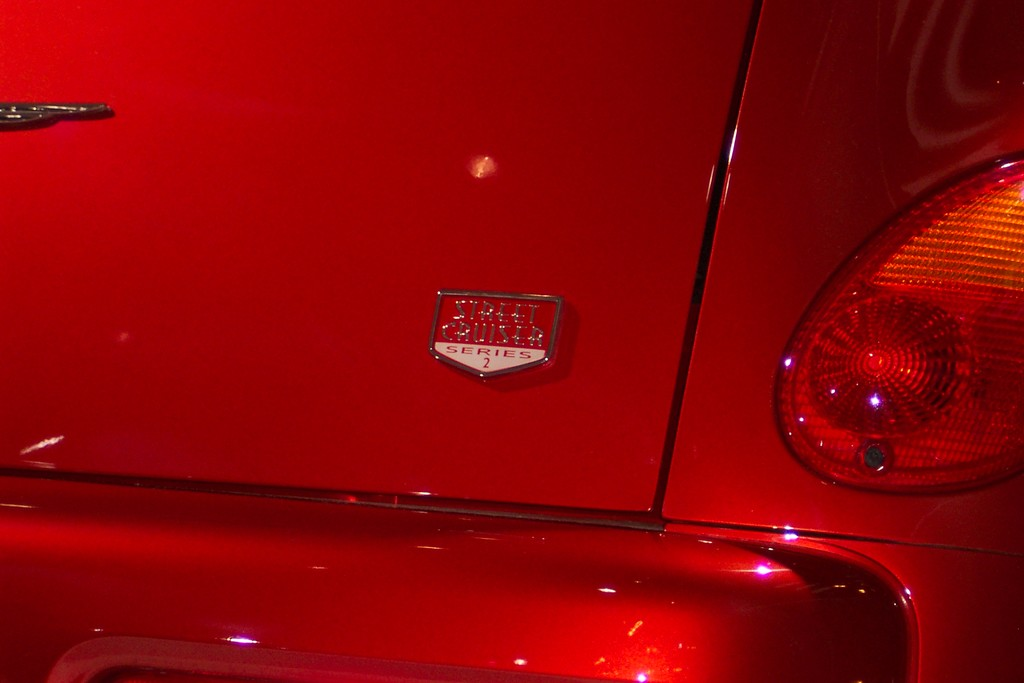Car: (14, 32, 986, 680)
